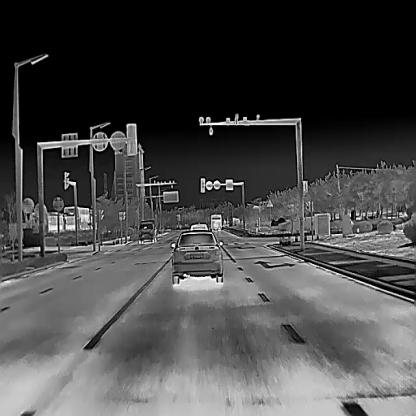car: (170, 229, 224, 283), (135, 218, 156, 244)
truck: (211, 212, 221, 230)
